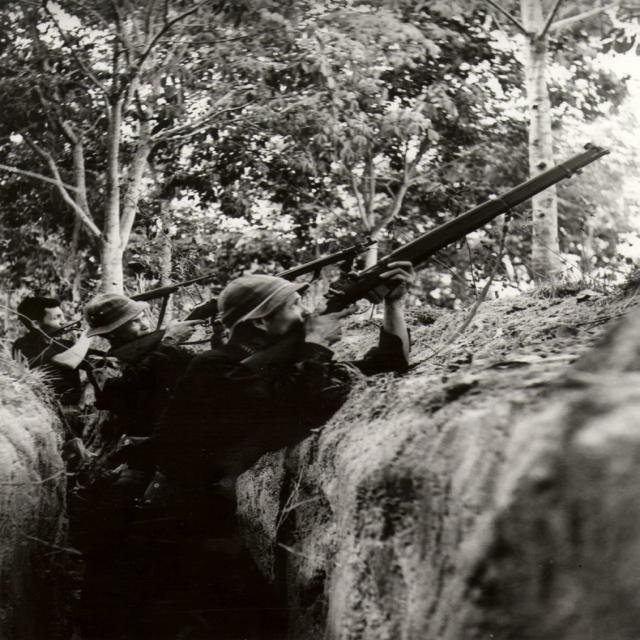weapon: (237, 136, 616, 374), (166, 234, 374, 350), (39, 277, 220, 359)
